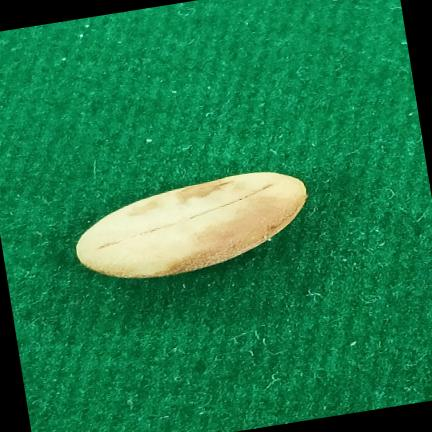parchment: (76, 172, 307, 278)
